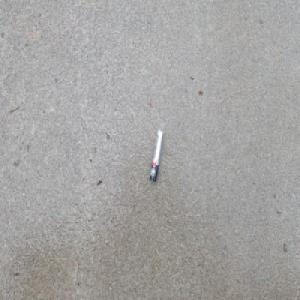Battery: (149, 129, 163, 183)
